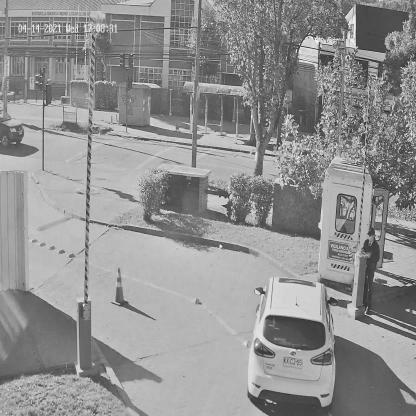Patente: (282, 355, 304, 373)
